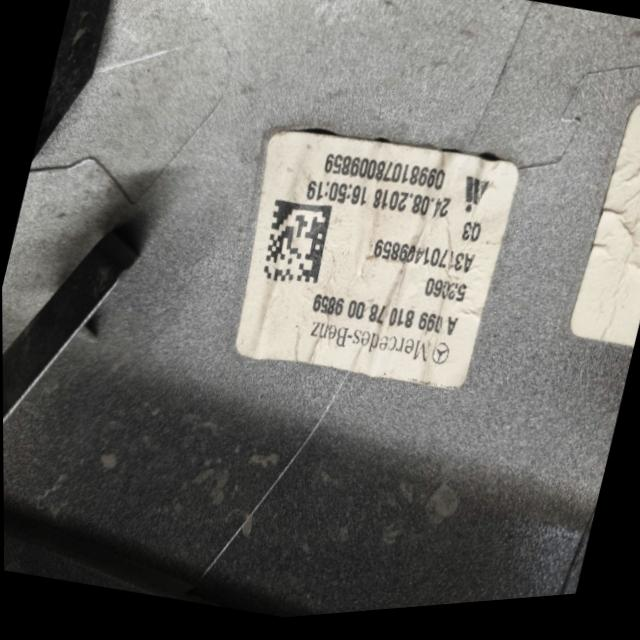datamatrix: (256, 198, 335, 297)
